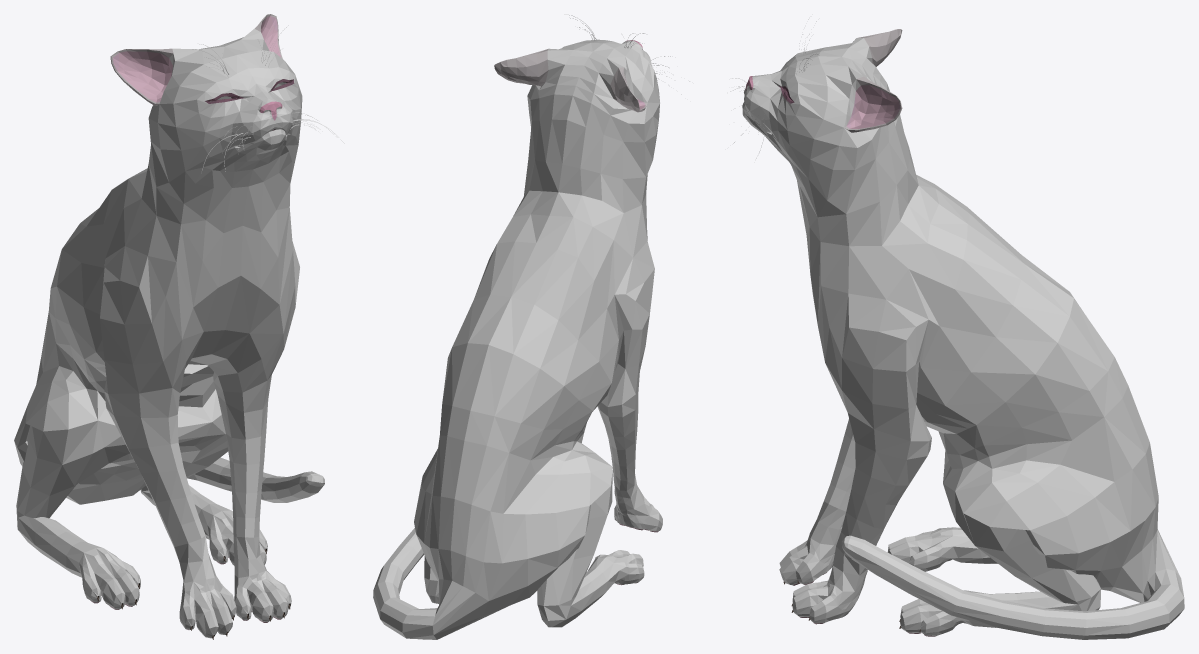
The model's file is Pet_sit_02.glb.
3 views of the same model, side by side, from view 1: azimuth 30°, elevation 25°; view 2: azimuth 150°, elevation 25°; view 3: azimuth 270°, elevation 25° (orthographic). The views are drawn at different scales.
Parts seen in each view (by area): view 1: Pet_sit_02; view 2: Pet_sit_02; view 3: Pet_sit_02.
Boxes of the visible parts, x1,y1,x2,y2 form: Pet_sit_02: (14,14,344,639); Pet_sit_02: (373,15,689,639); Pet_sit_02: (730,19,1184,639).
Size of the model in its own units: 0.1823 by 0.453 by 0.3339.
Materials: 1 (1 with a texture image).
